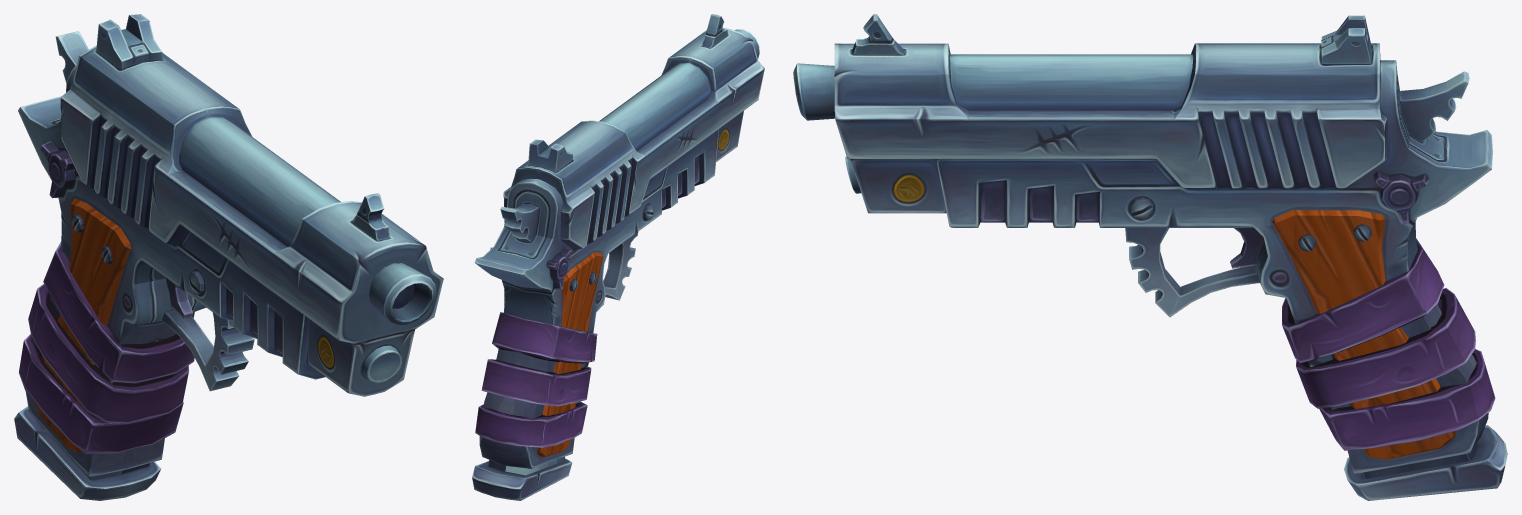
The model's file is Stylized_Pistol-1.FBX.
3 renders of one model, left to right at view 1: azimuth 30°, elevation 25°; view 2: azimuth 150°, elevation 25°; view 3: azimuth 270°, elevation 25°, orthographic. The views are drawn at different scales.
Parts seen in each view (by area): view 1: Stylized_Pistol_Body, Part-1, Magzine; view 2: Stylized_Pistol_Body, Part-1, Magzine; view 3: Stylized_Pistol_Body, Part-1, Magzine.
Part boxes in pixels (box(x1,y1,x2,y2)): Stylized_Pistol_Body: box(18, 14, 443, 477); Part-1: box(19, 242, 194, 454); Magzine: box(14, 406, 161, 500); Stylized_Pistol_Body: box(474, 14, 764, 468); Part-1: box(475, 312, 597, 447); Magzine: box(472, 457, 572, 500); Stylized_Pistol_Body: box(793, 14, 1492, 474); Part-1: box(1282, 238, 1495, 450); Magzine: box(1344, 425, 1507, 500).
Size of the model in its own units: 7.49 by 34.07 by 47.04.
1 material, 1 textured.
